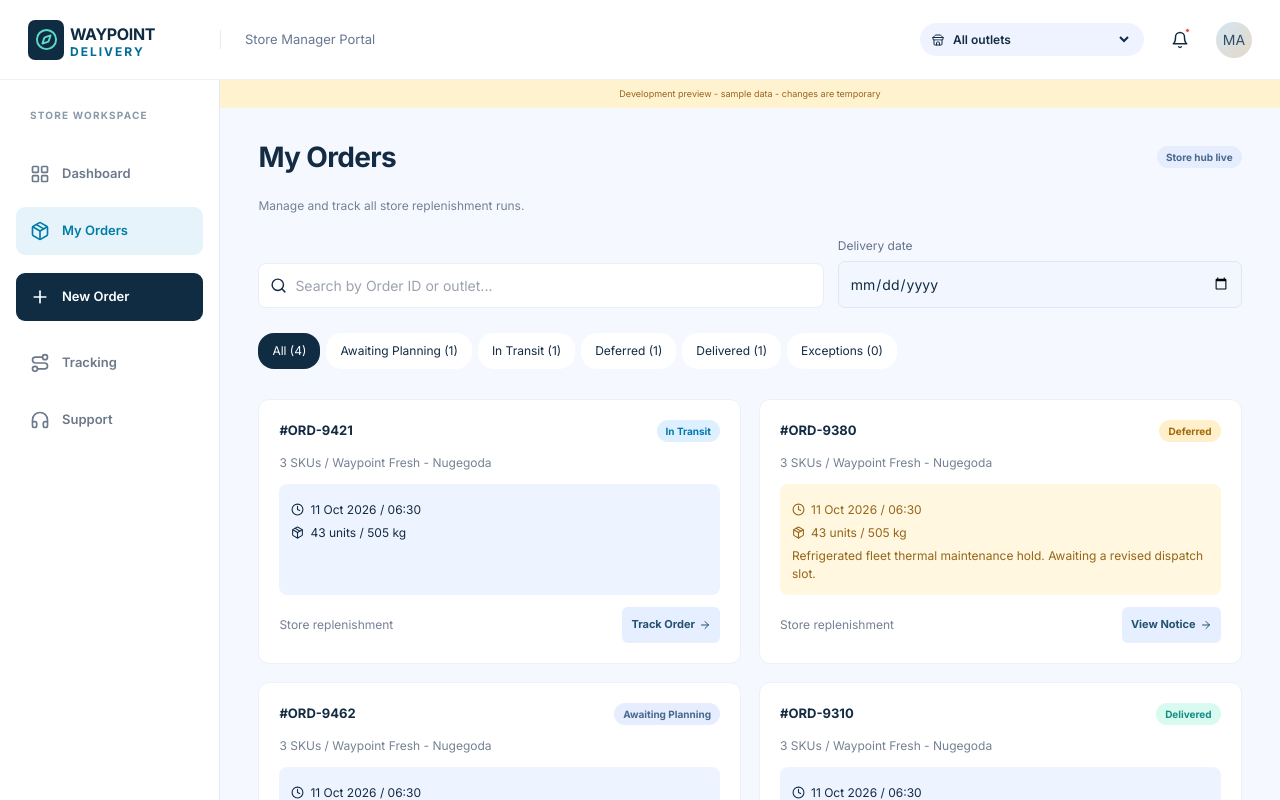
Test case: Store workflow › filters orders by status and search
The width and height of the screenshot is (1280, 800).
Expected: the heading "My Orders" is shown, [258,140,396,174]
Step 1. Click the button "Deferred (1)" → (629, 350), box [581,332,676,368]
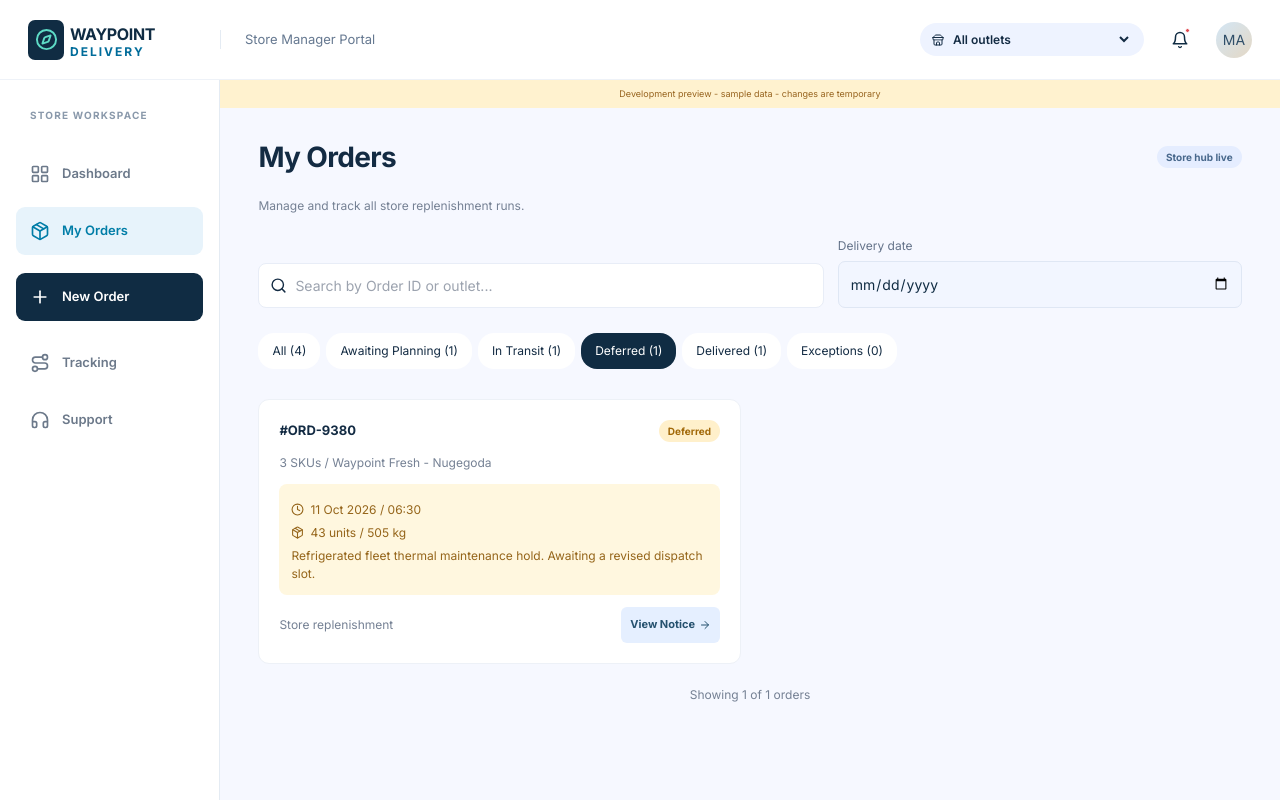
Expected: the text "#ORD-9380" is shown, [279,421,356,440]
Expected: the text "#ORD-9421" is gone
Step 2. Type "not-an-order" into the field named "Search orders" → (554, 285), box [295,274,812,296]
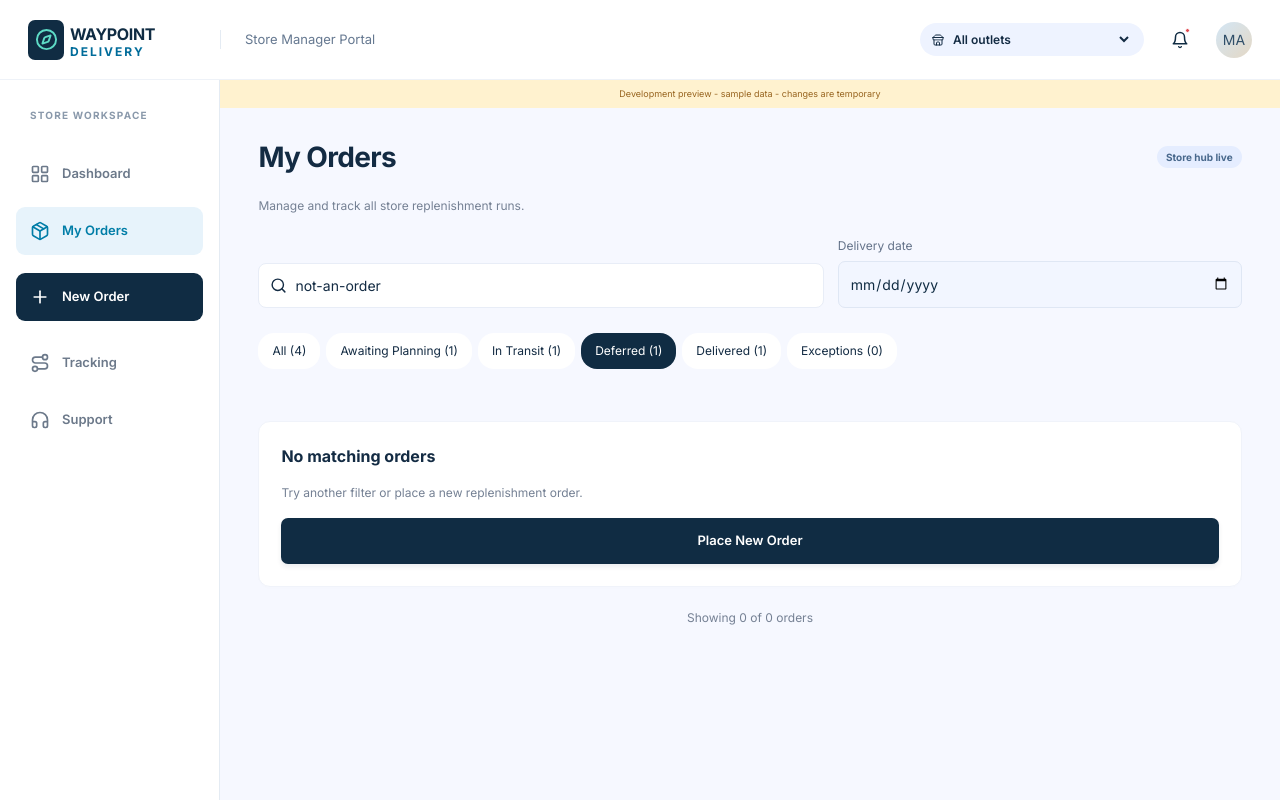
Expected: the heading "No matching orders" is shown, [281,446,435,466]
